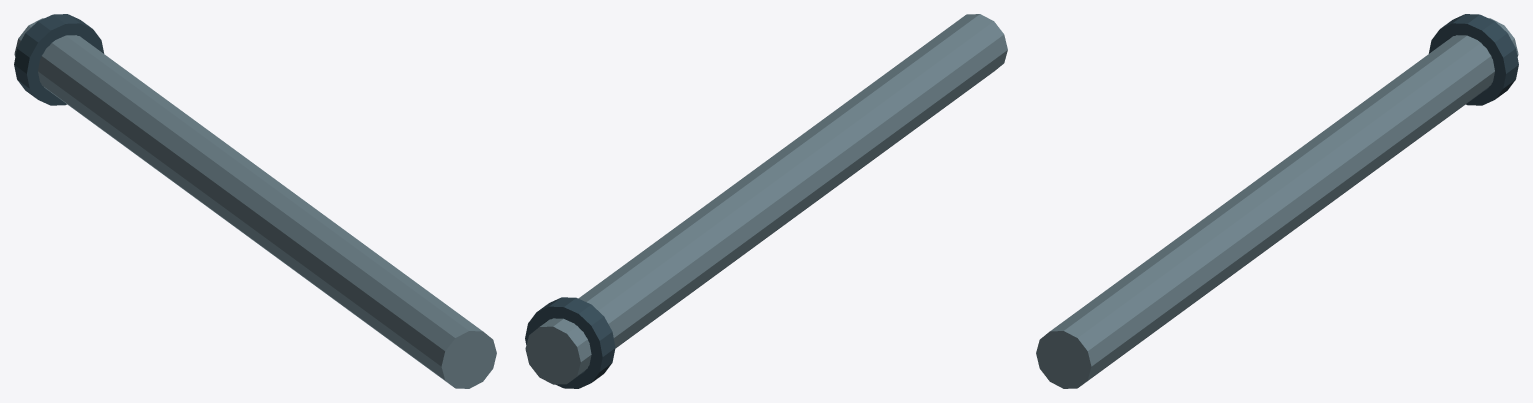
The model's file is 13_Shaft_2m.obj.
3 renders of one model, left to right at view 1: azimuth 30°, elevation 25°; view 2: azimuth 150°, elevation 25°; view 3: azimuth 330°, elevation 25°, orthographic.
Bounding box in the file's own units: 0.21 × 0.21 × 2.
